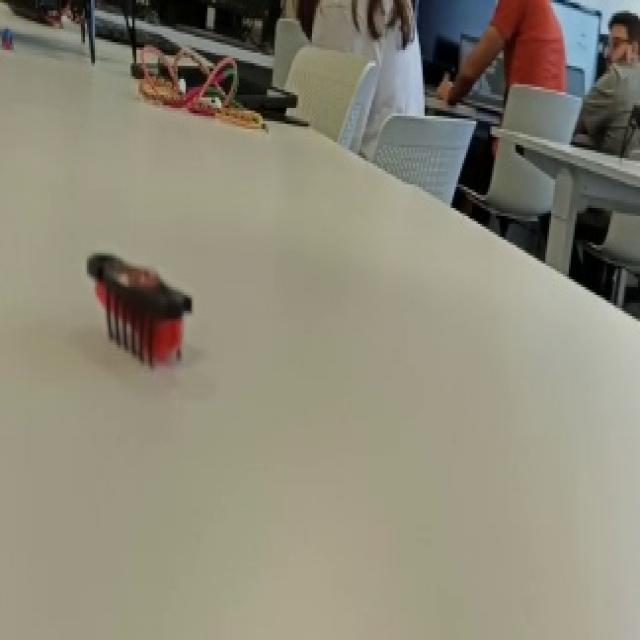2_NanoBug_Negro: (74, 223, 216, 404)
